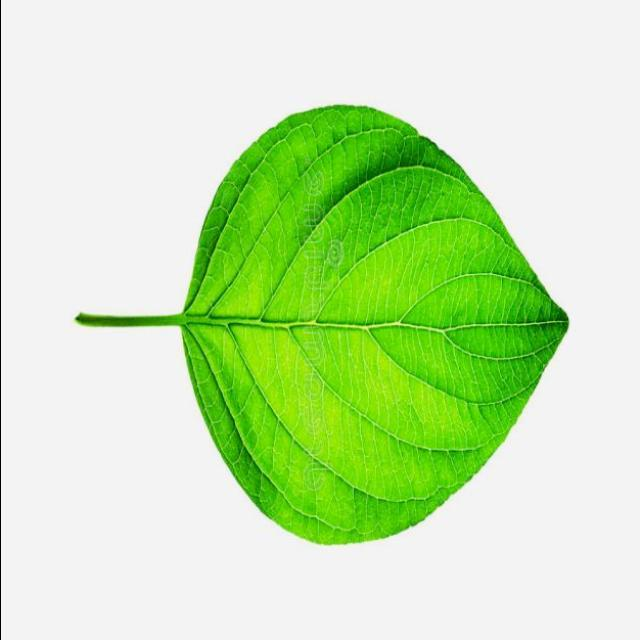leaf: (74, 102, 569, 546)
